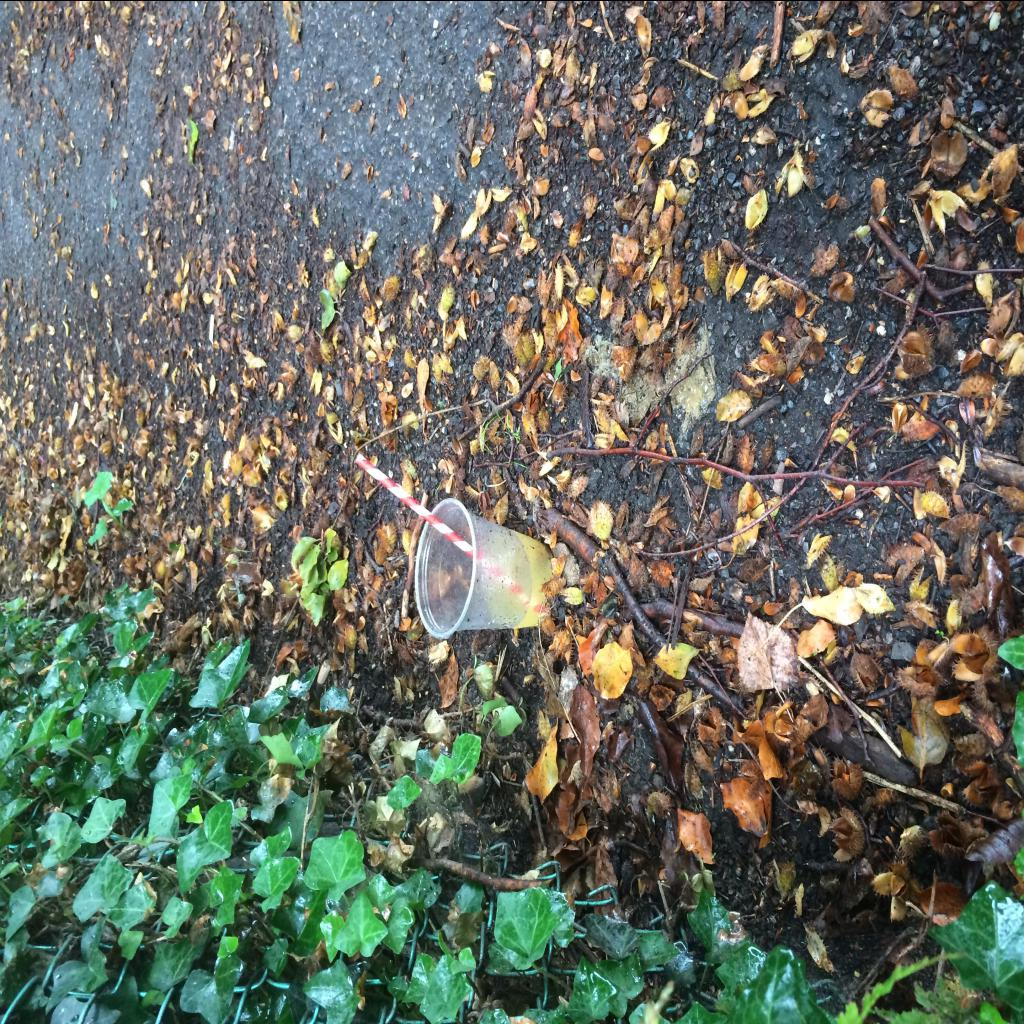Disposable plastic cup: (416, 498, 554, 638)
